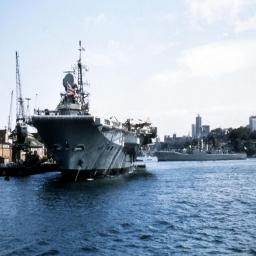Portanaves: (29, 34, 158, 188)
